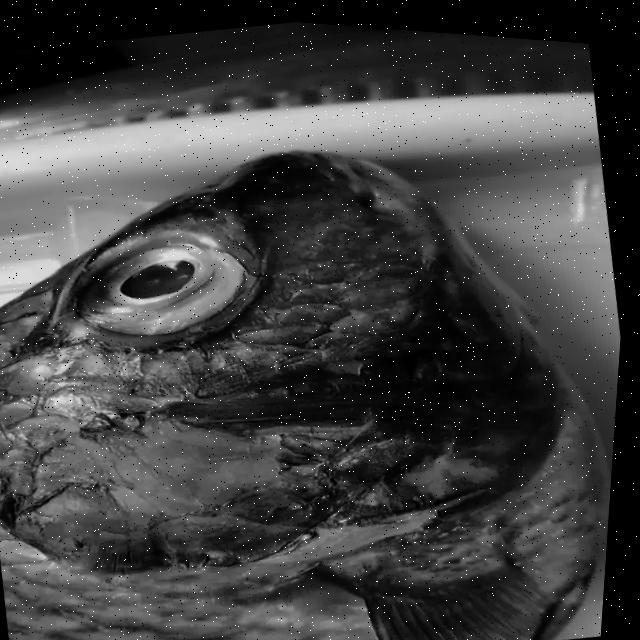Fresh: (35, 306, 613, 640), (55, 184, 287, 366)
